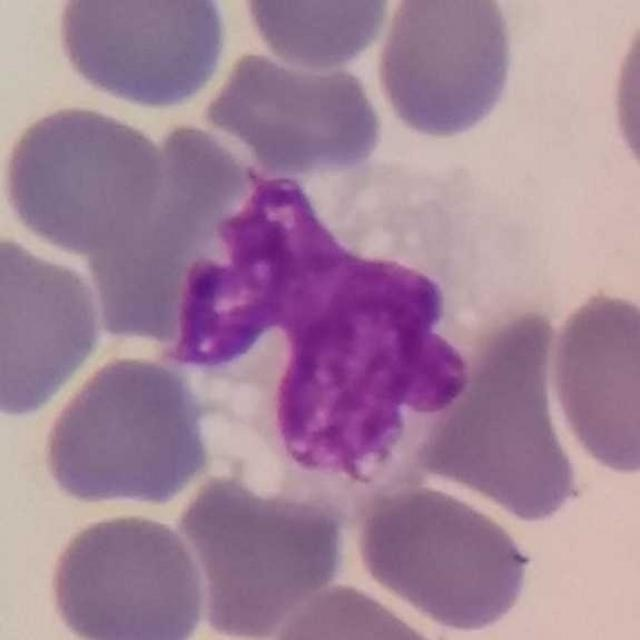Monocyte: (159, 160, 540, 509)
RBC: (77, 126, 257, 343), (415, 307, 587, 528), (171, 468, 353, 638), (351, 481, 538, 635), (37, 352, 215, 512), (0, 99, 168, 255), (200, 45, 388, 178), (42, 507, 209, 640), (372, 0, 520, 144), (49, 0, 234, 112), (0, 230, 107, 423), (544, 285, 640, 480), (263, 579, 455, 640), (237, 0, 396, 72), (603, 2, 640, 194)
